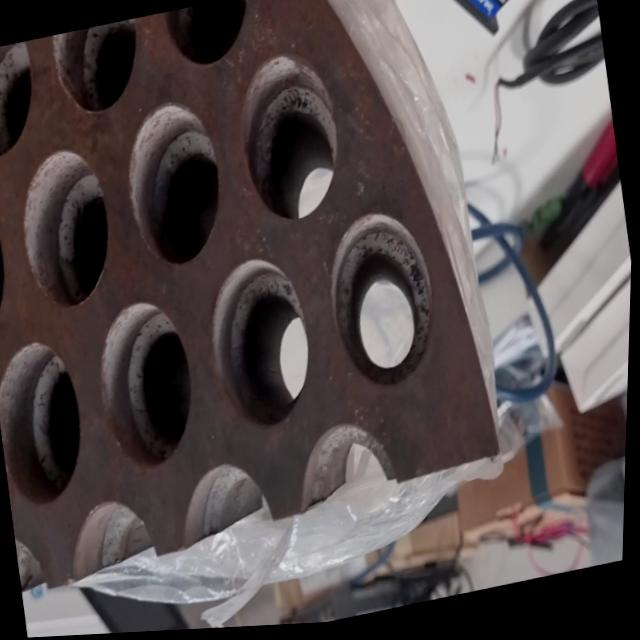Hole: (320, 207, 451, 404), (200, 252, 326, 442), (89, 294, 208, 480), (231, 50, 352, 232), (116, 95, 235, 278), (11, 142, 124, 317), (0, 335, 98, 514), (50, 19, 151, 124), (164, 0, 256, 76), (0, 40, 45, 165)
